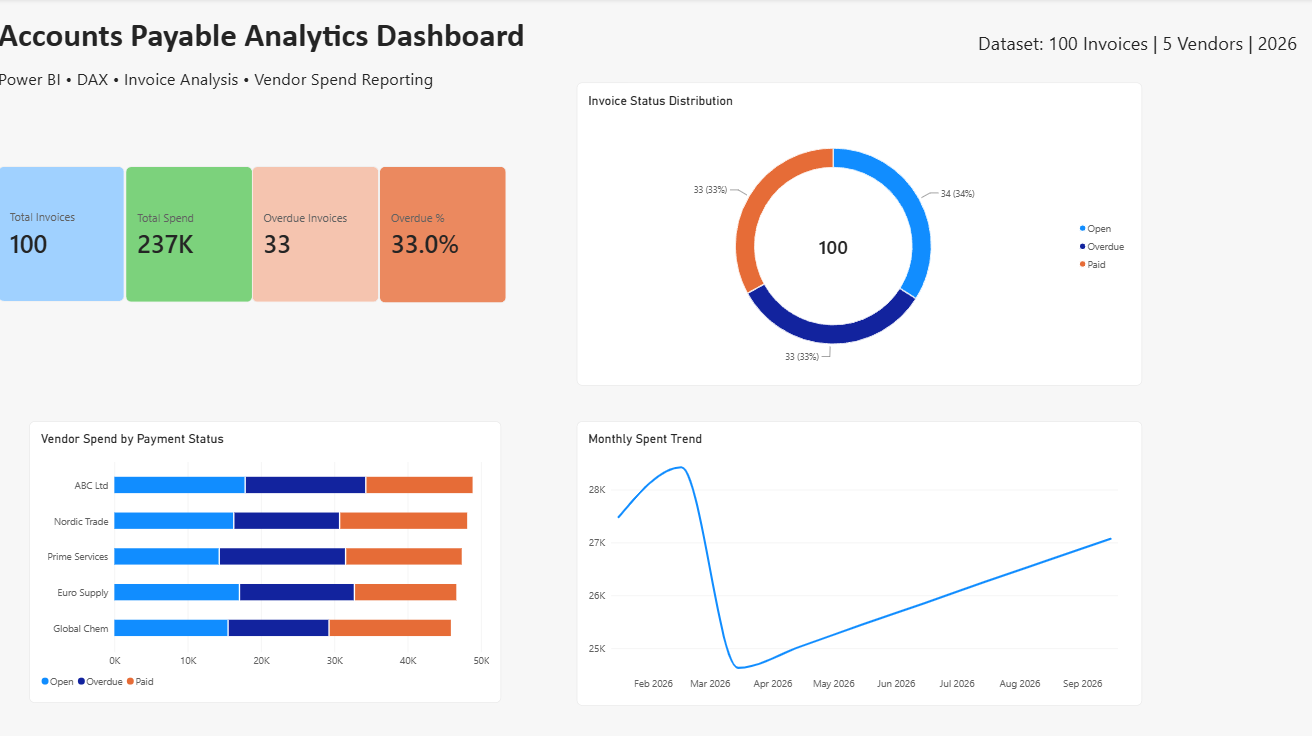

This screenshot's page, from the dashboard's own definition file:
{"tool":"powerbi","page":{"name":"Accounts Payable Analytics Dashboard","canvas":[1920,1080],"ordinal":0},"visuals":[{"type":"cardVisual","fields":{"Data":["APTable.Total Invoices"]},"box":[0,241.6,184.9,197.5],"z":0},{"type":"cardVisual","fields":{"Data":["APTable.Total Spend"]},"box":[184.9,241.6,185,198],"z":1},{"type":"cardVisual","fields":{"Data":["APTable.Overdue %"]},"box":[554,241,185,199],"z":2},{"type":"cardVisual","fields":{"Data":["APTable.Overdue Invoices"]},"box":[369.8,241.6,185,198],"z":3},{"type":"donutChart","title":"Invoice Status Distribution","fields":{"Category":["APTable.Status"],"Y":["CountNonNull(APTable.Invoice_ID)"]},"box":[841.6,119.6,822.7,440.8],"z":4},{"type":"barChart","title":"Vendor Spend by Payment Status","fields":{"Category":["APTable.Vendor"],"Series":["APTable.Status"],"Y":["Sum(APTable.Amount_EUR)"]},"box":[46.2,612.9,686.3,409.3],"z":5},{"type":"lineChart","title":"Monthly Spent Trend","fields":{"Category":["APTable.Invoice_Date.Variation.Date Hierarchy.Year","APTable.Invoice_Date.Variation.Date Hierarchy.Quarter","APTable.Invoice_Date.Variation.Date Hierarchy.Month","APTable.Invoice_Date.Variation.Date Hierarchy.Day"],"Y":["APTable.Total Spend"]},"box":[841.6,612.9,822.7,413.5],"z":6},{"type":"textbox","box":[0,21,778.7,197.3],"z":7},{"type":"textbox","box":[1425.1,44.1,495.3,60.9],"z":8}]}

Visuals, with their boxes in screenshot pixels (x1, y1, x2, y2), scaled from the page's 1920x1080 canvas onto the 1312x736 screenshot:
cardVisual - APTable.Total Invoices: 0,165,126,299
cardVisual - APTable.Total Spend: 126,165,253,300
cardVisual - APTable.Overdue %: 379,164,505,300
cardVisual - APTable.Overdue Invoices: 253,165,379,300
"Invoice Status Distribution" donutChart: 575,82,1137,382
"Vendor Spend by Payment Status" barChart: 32,418,501,697
"Monthly Spent Trend" lineChart: 575,418,1137,699
textbox: 0,14,532,149
textbox: 974,30,1311,72
